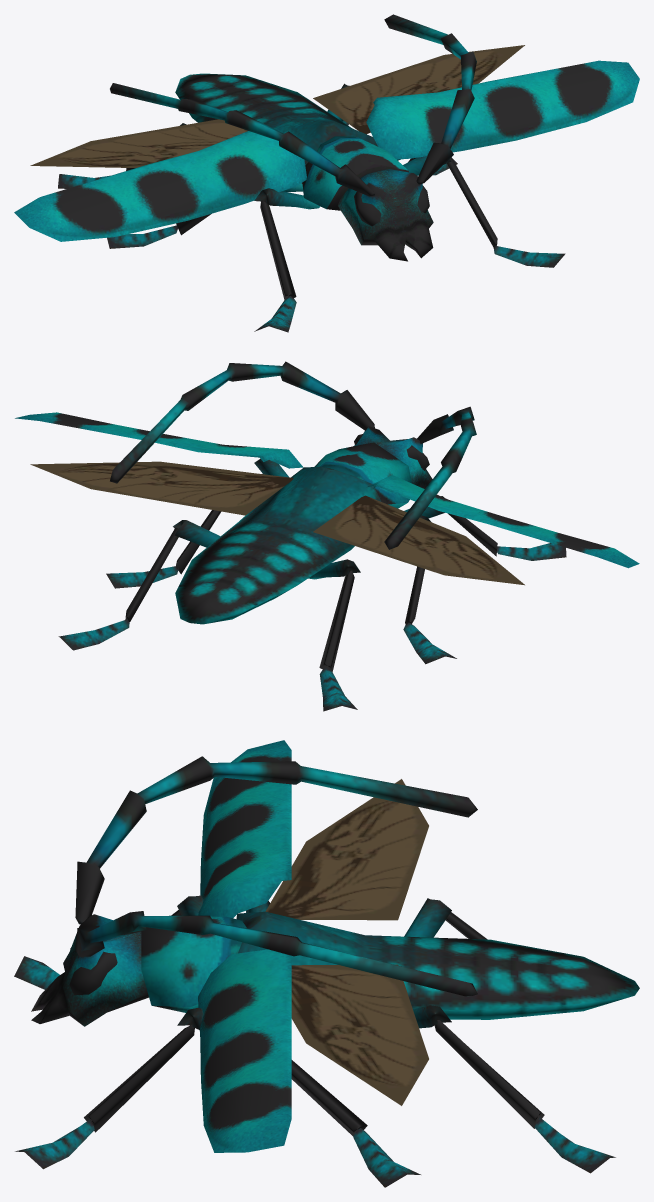
File: InsectRuriboshikamikiri.glb
3 views of the same model, one above another, from view 1: azimuth 30°, elevation 25°; view 2: azimuth 150°, elevation 25°; view 3: azimuth 270°, elevation 25° (orthographic). The views are drawn at different scales.
Parts seen in each view (by area): view 1: body157__mRuriboshikamikiri, pCube38__mWing; view 2: body157__mRuriboshikamikiri, pCube38__mWing; view 3: body157__mRuriboshikamikiri, pCube38__mWing.
Boxes of the visible parts, box(x1,y1,x2,y2) form: body157__mRuriboshikamikiri: box(14, 14, 639, 332); pCube38__mWing: box(30, 45, 524, 167); body157__mRuriboshikamikiri: box(15, 361, 639, 711); pCube38__mWing: box(30, 461, 524, 585); body157__mRuriboshikamikiri: box(14, 740, 639, 1187); pCube38__mWing: box(265, 779, 428, 1105).
Size of the model in its own units: 5.39 by 1.48 by 3.52.
2 materials, 2 textured.
